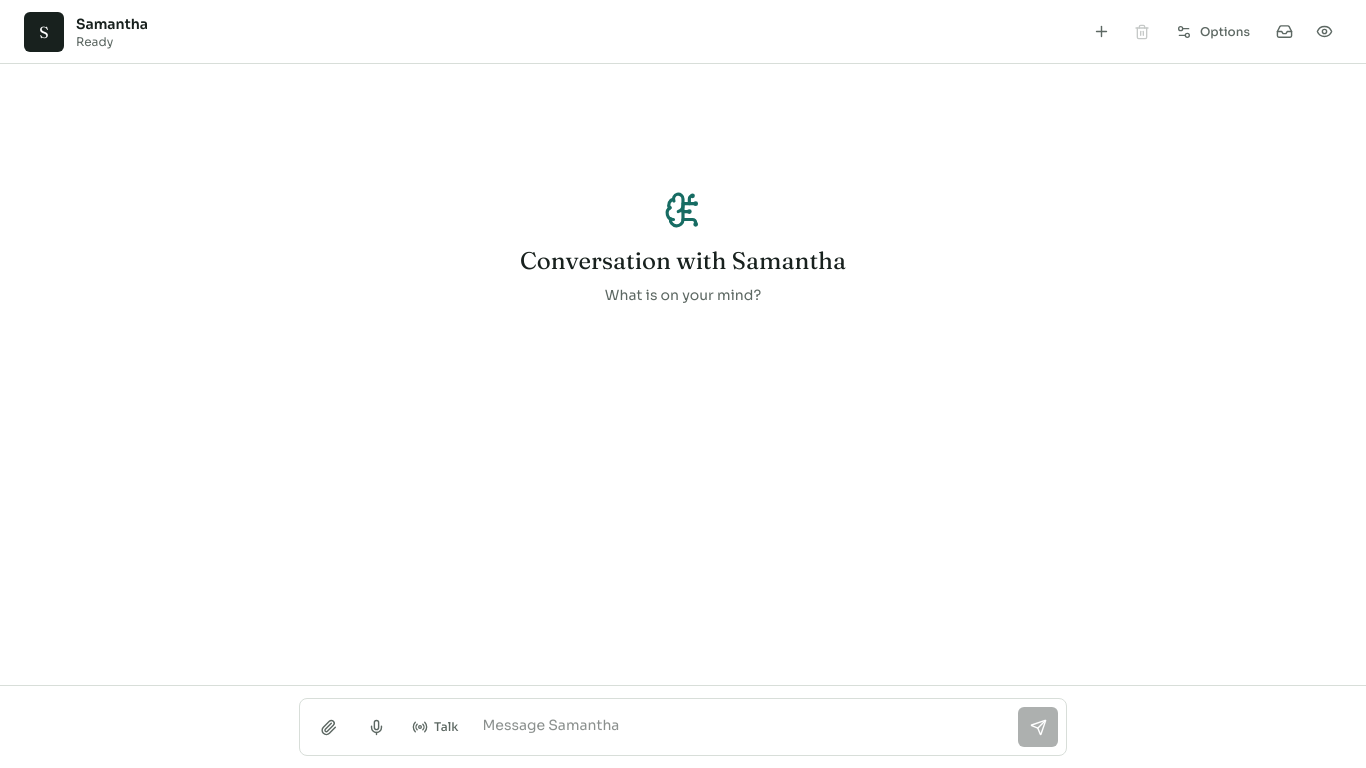
ChatPage attachments › renders a streamed clarification card and resumes with the selected answer
Type "Review the contract" into the text box labelled "Message Samantha". click: [742, 727]
box: x1=474 y1=707 x2=1010 y2=747
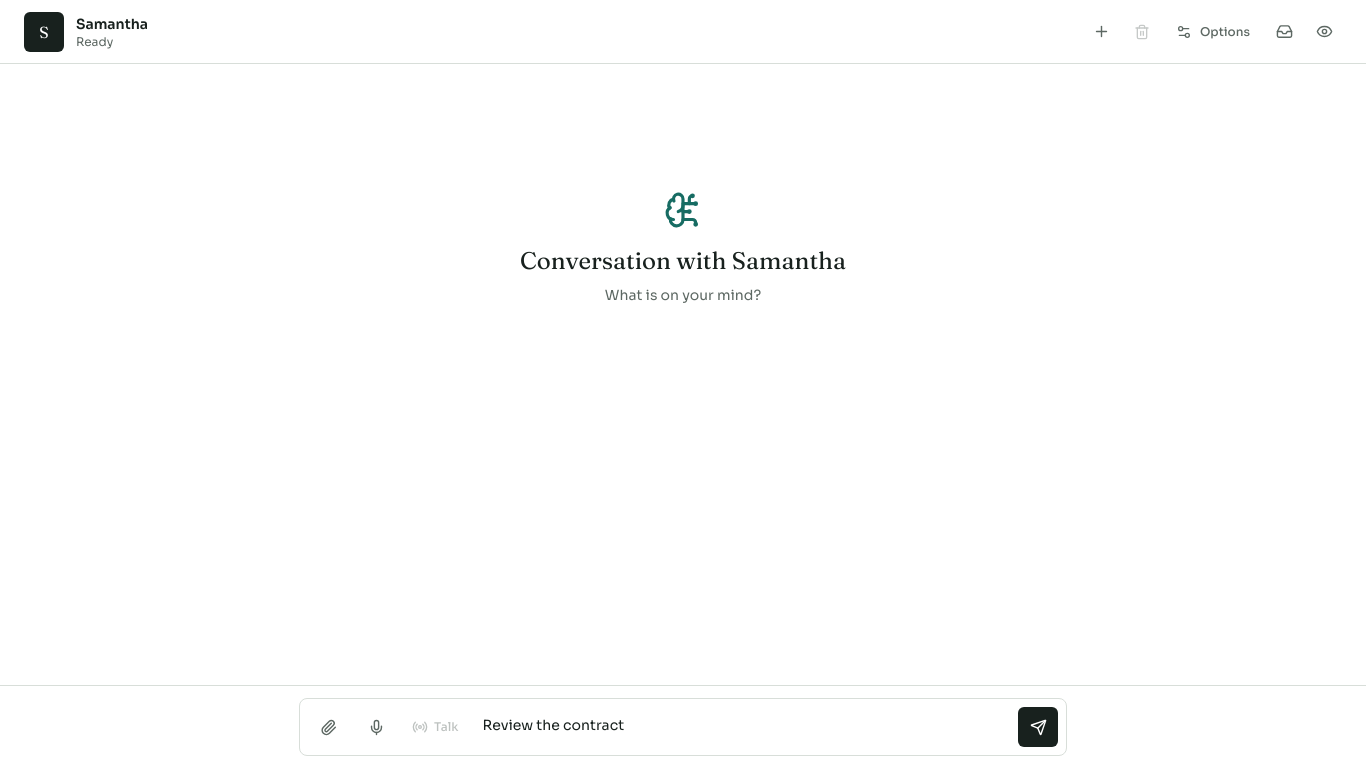
Click the button named "Send message". click: [1038, 727]
box: x1=1018 y1=707 x2=1058 y2=747
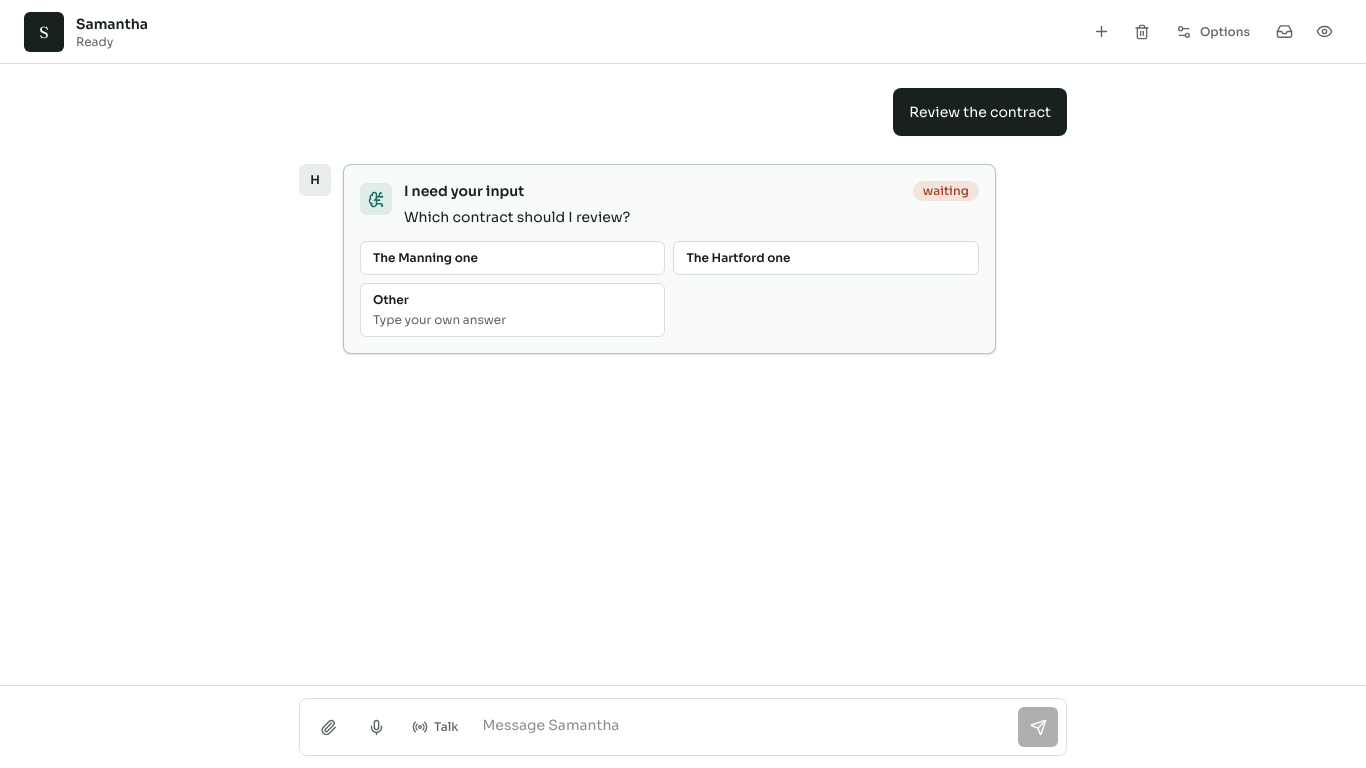
Expected: the text "Which contract should I review?" is shown, x1=404 y1=205 x2=630 y2=229
Click the button "The Hartford one". click: [738, 258]
box: x1=673 y1=241 x2=979 y2=275
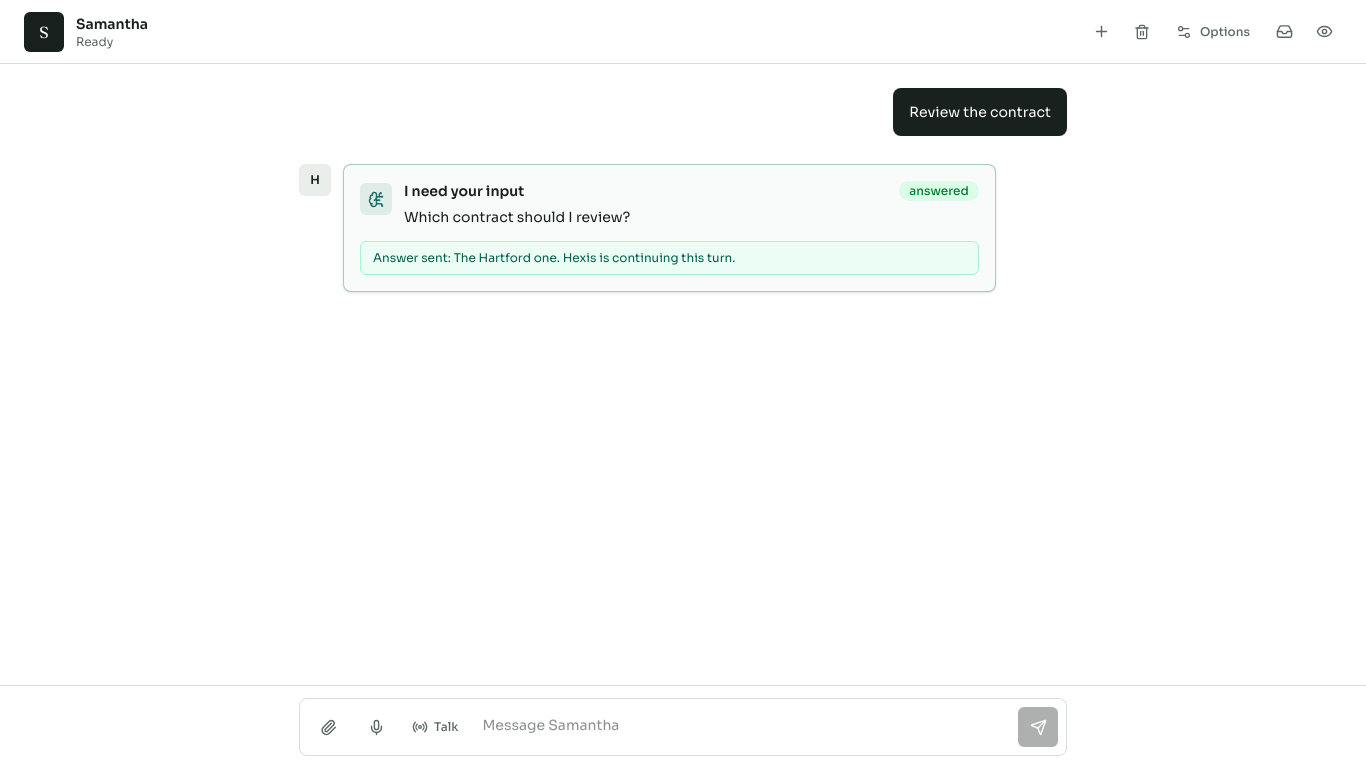
Expected: the text "Answer sent: The Hartford one" is shown, x1=360 y1=241 x2=979 y2=275
